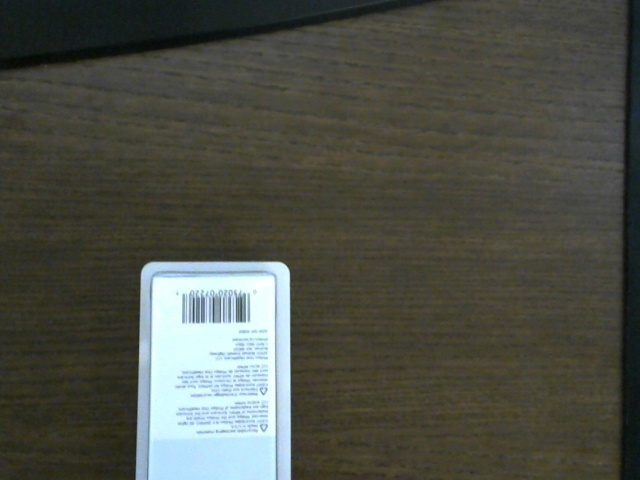Barcode: (180, 289, 251, 325)
